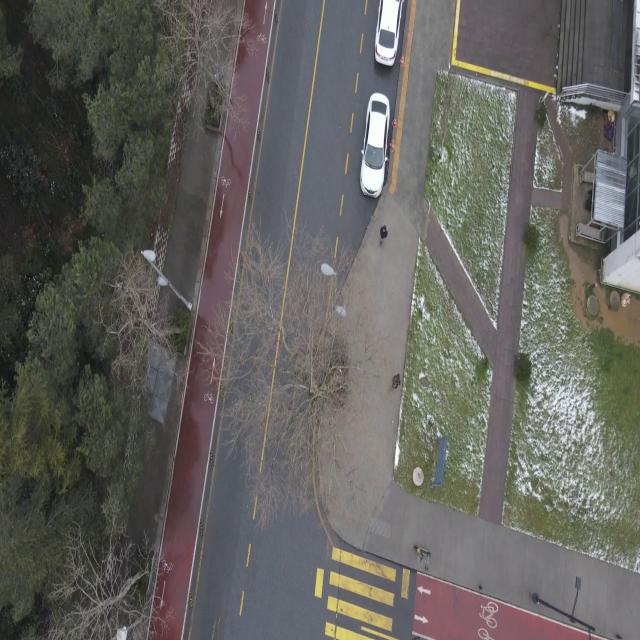p3rson: (380, 223, 388, 245), (588, 182, 595, 200), (392, 373, 400, 388)
